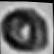correct: (0, 5, 49, 54)
